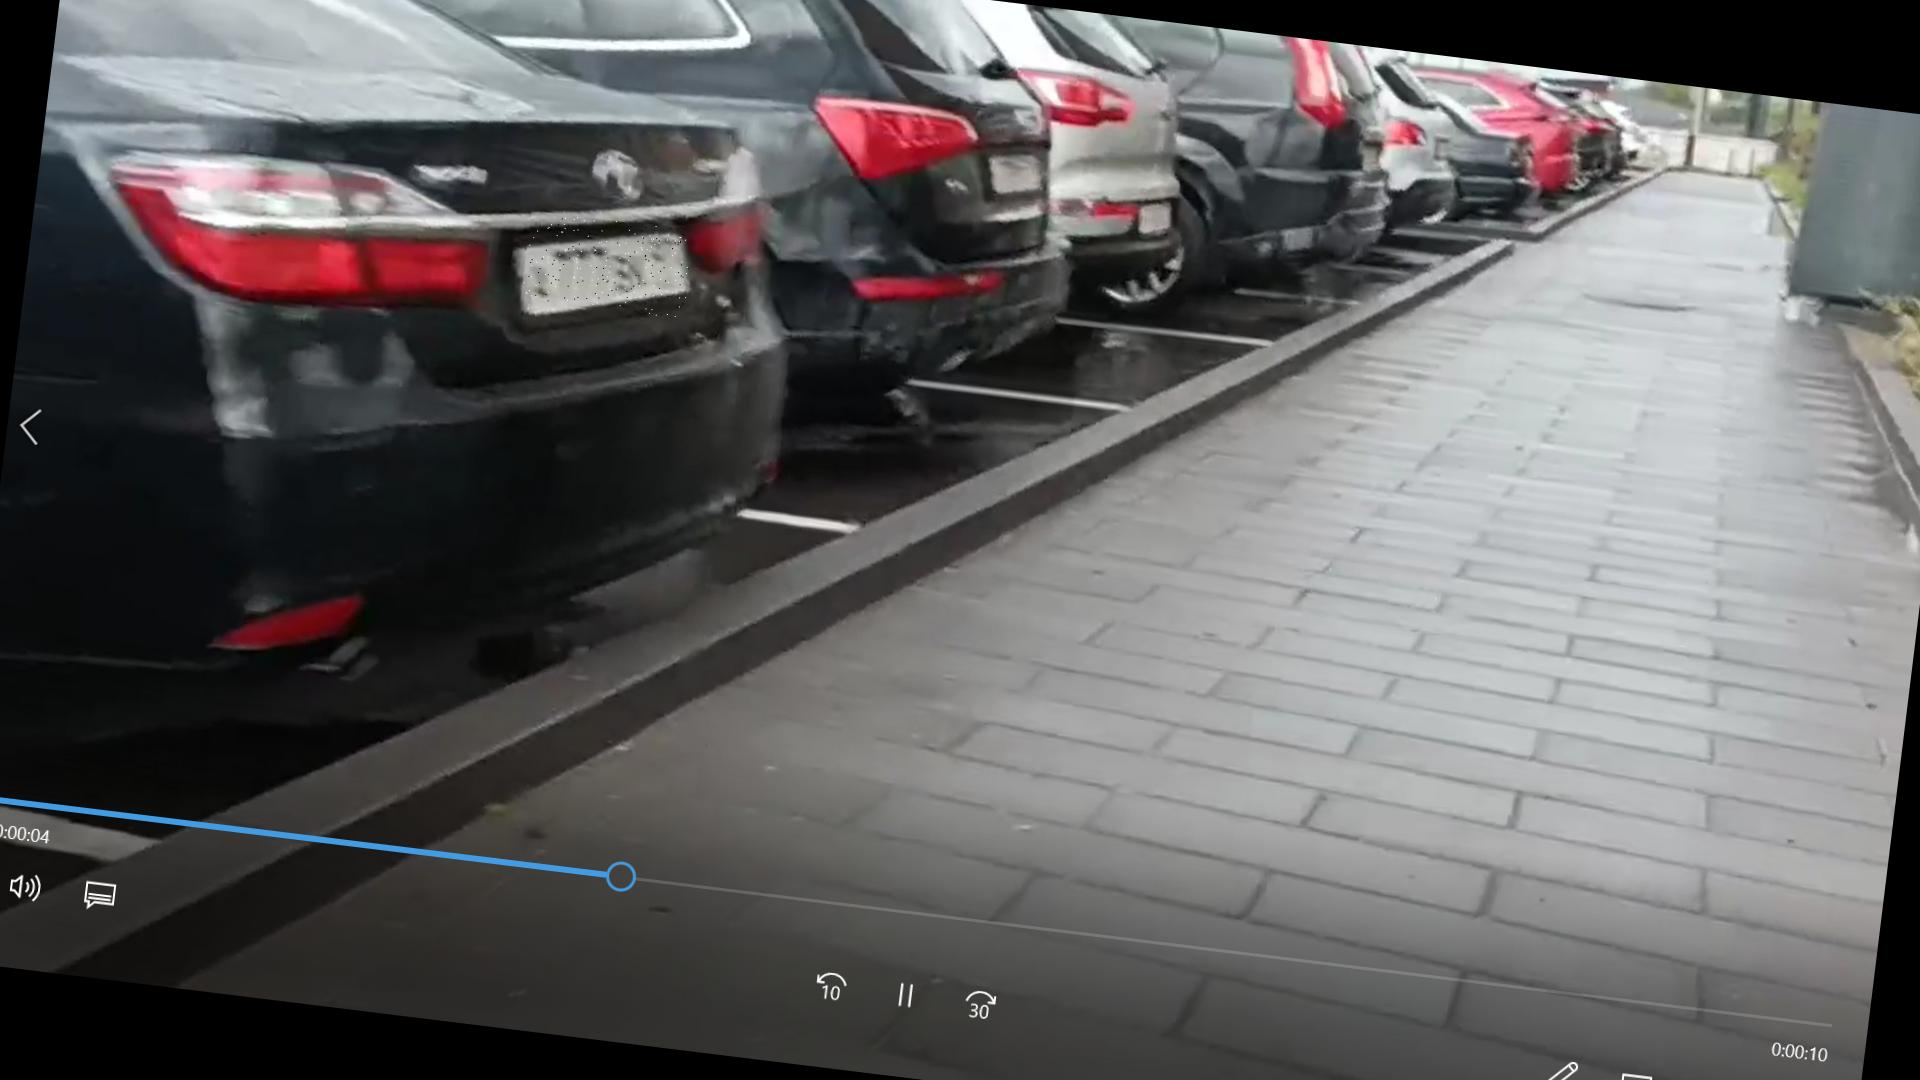plate: (522, 213, 696, 322)
